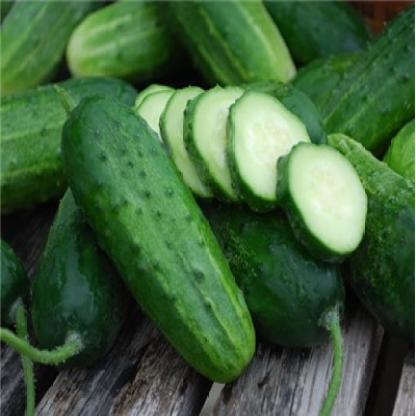--: (44, 78, 261, 388), (164, 75, 305, 215), (275, 138, 375, 263)
